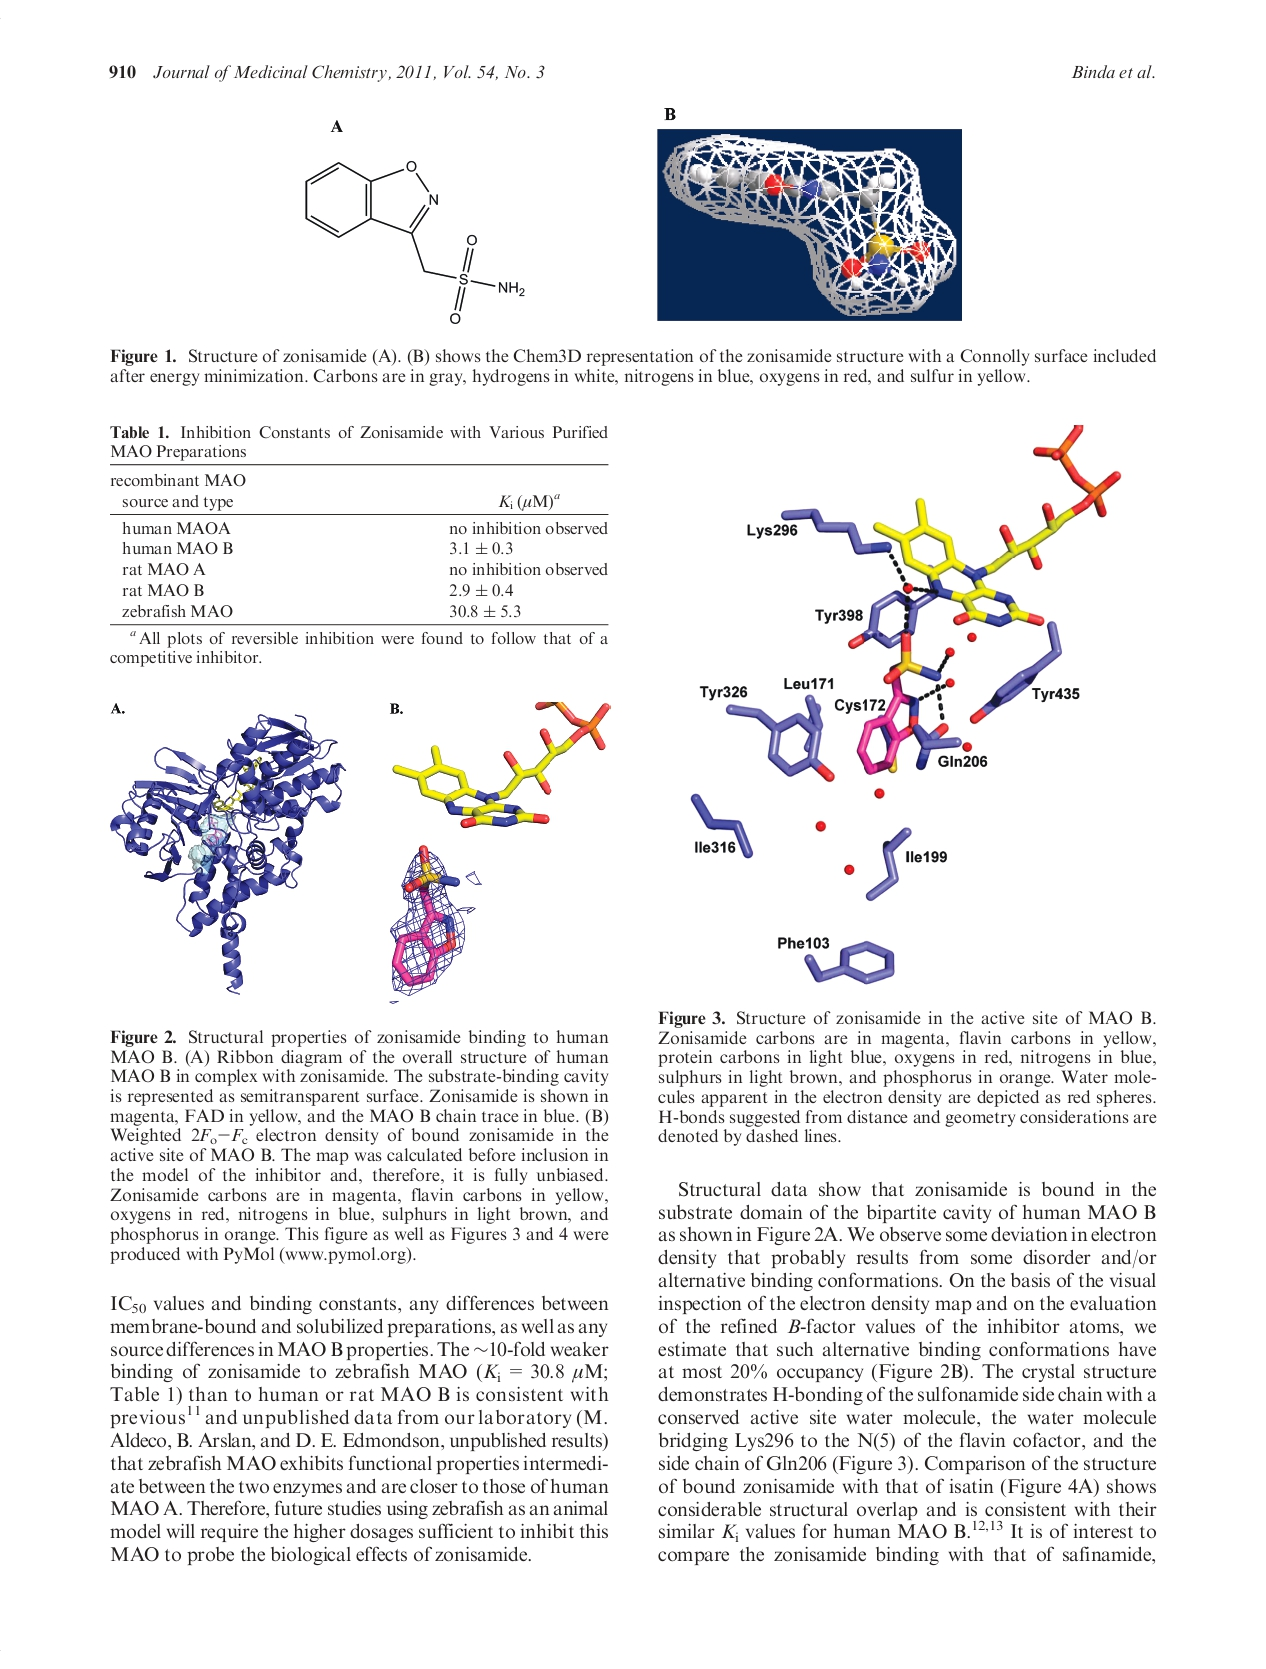exist_molecular: (297, 153, 529, 328)
